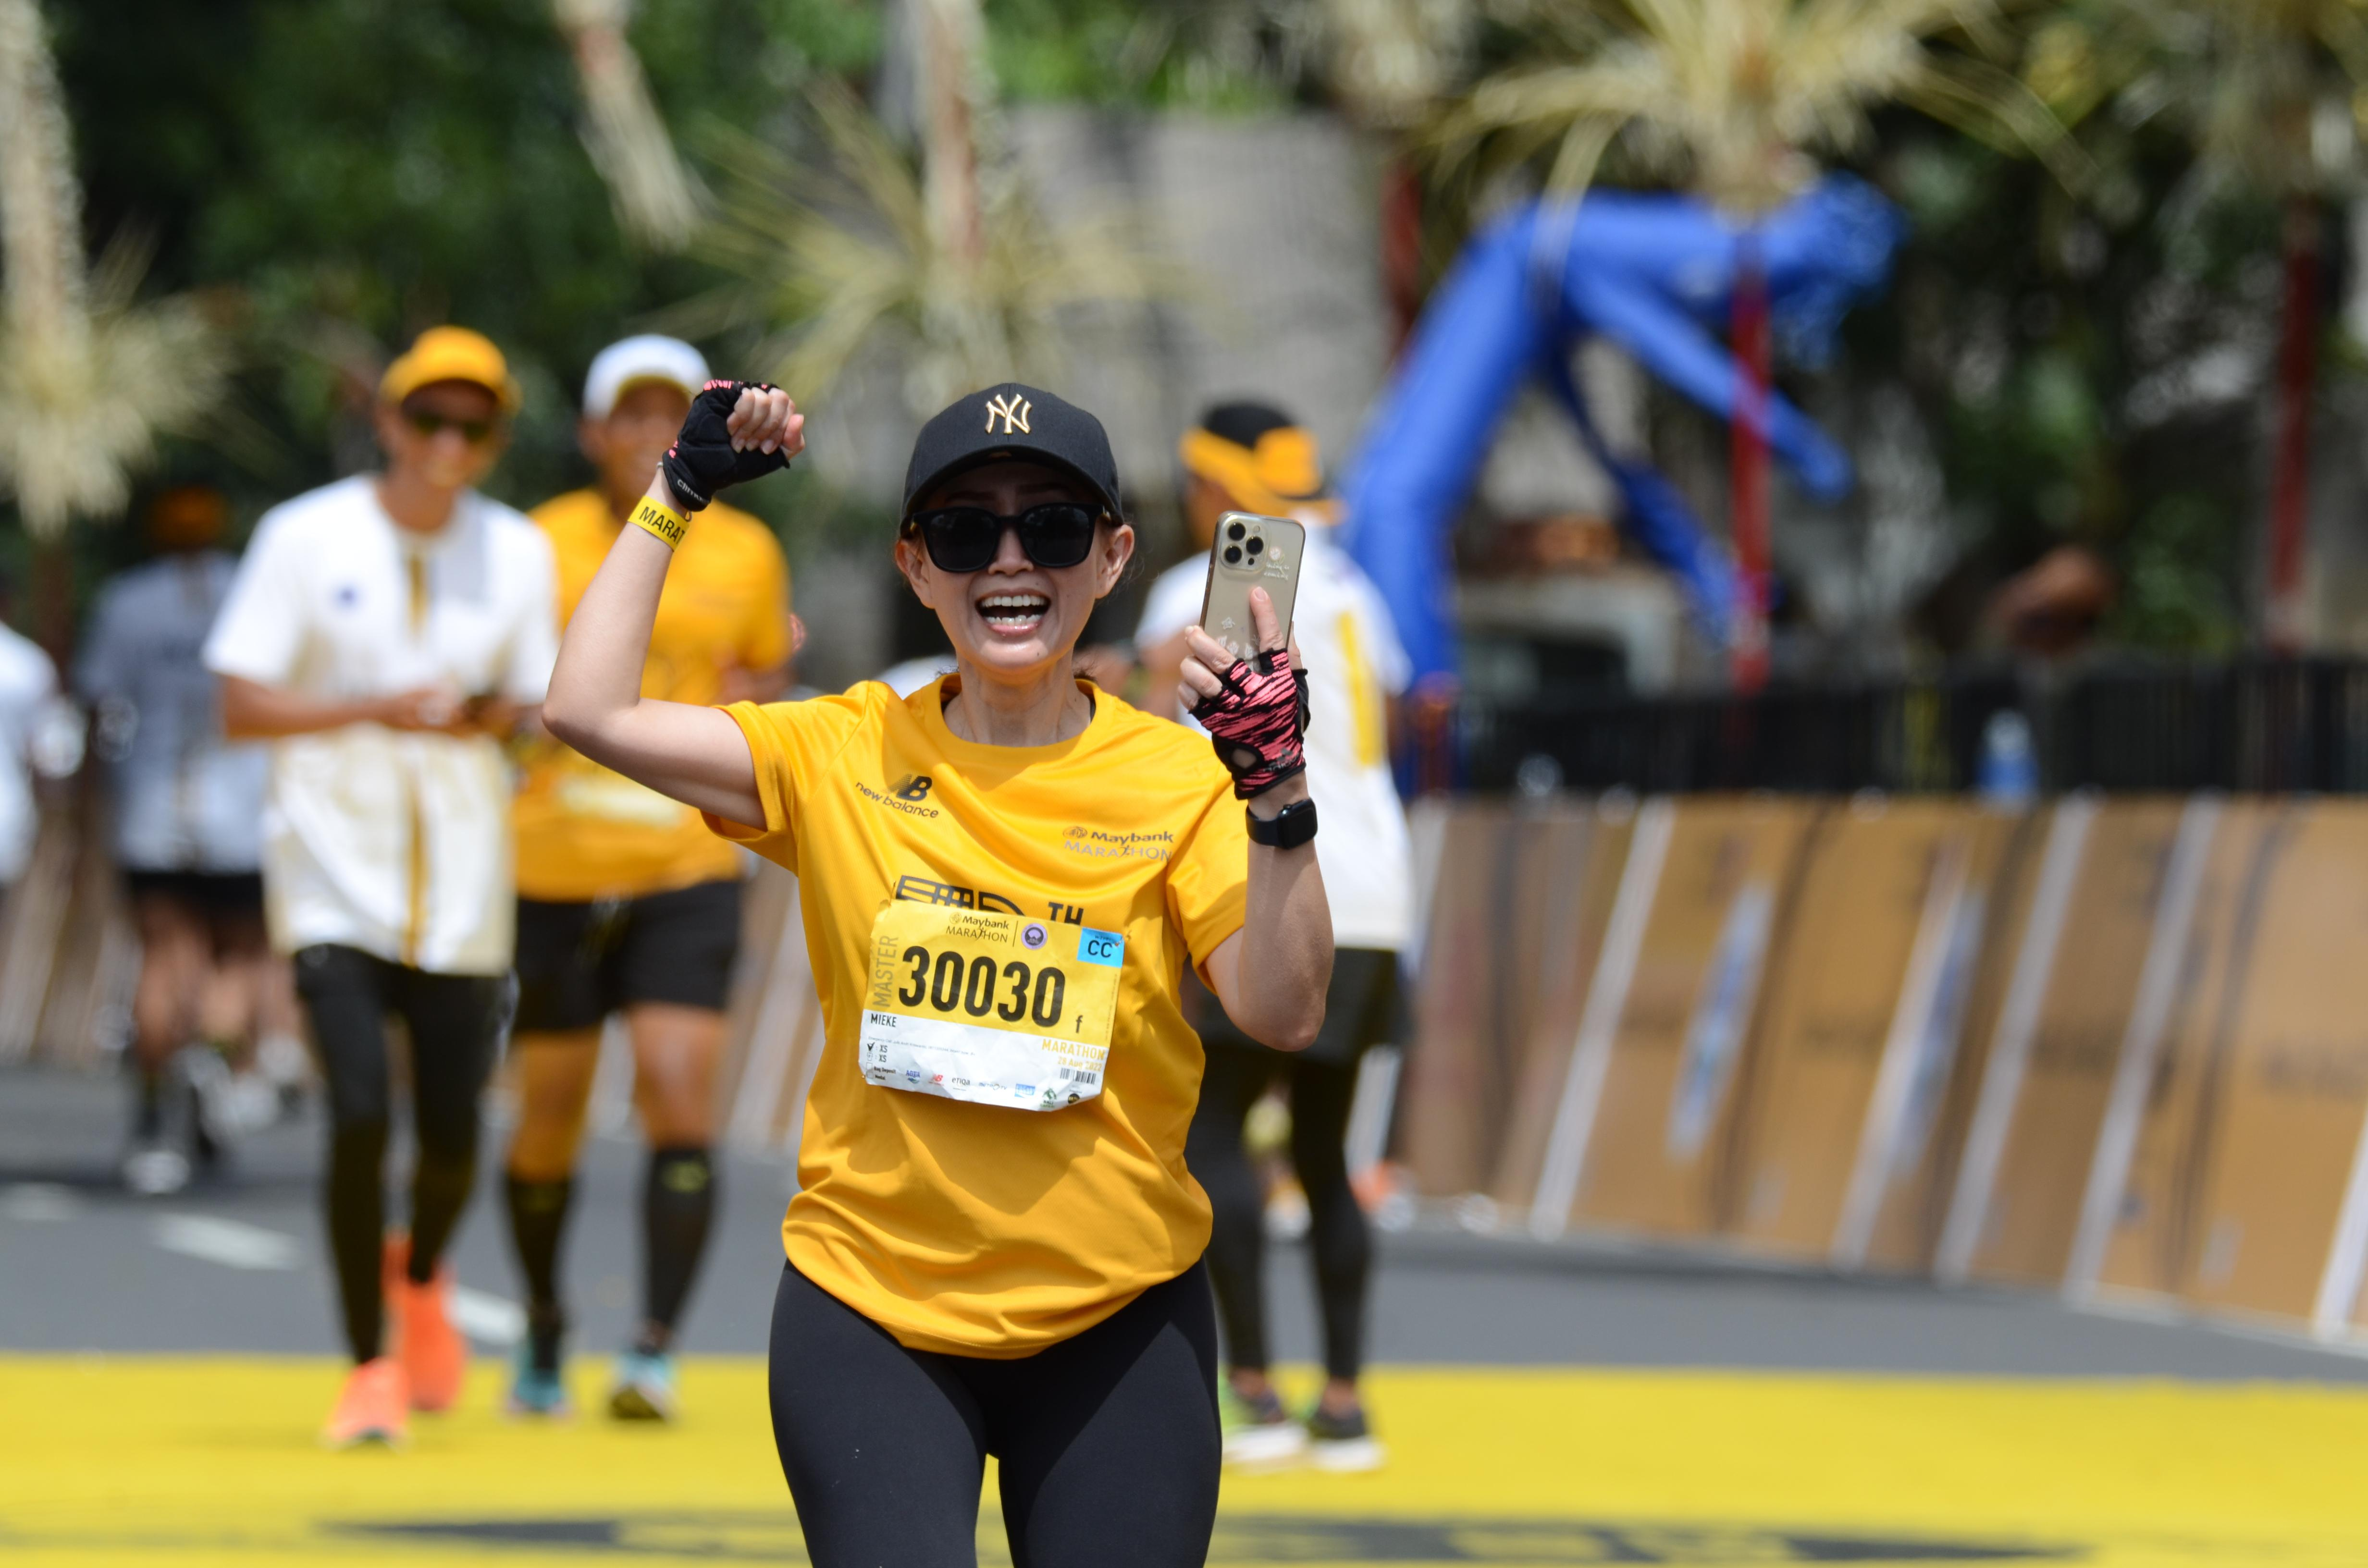bib: (863, 906, 1129, 1109)
